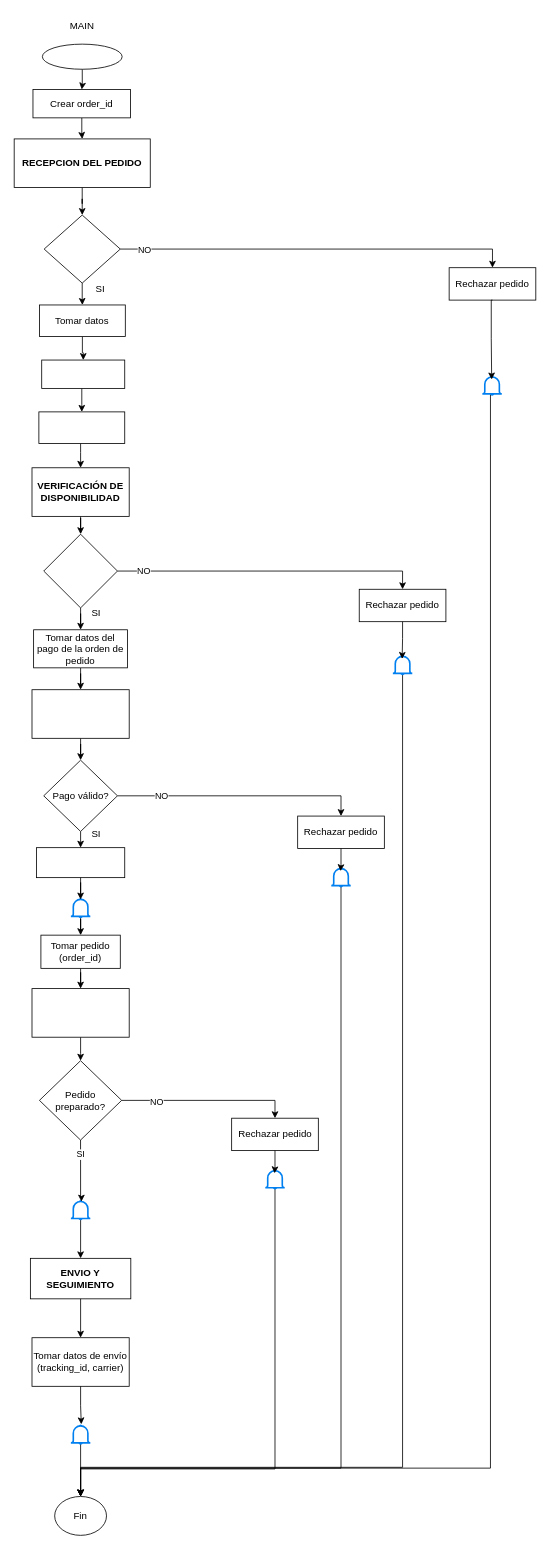
Image size: 550x1550. Some labels were removed from this diagram. Each missing label, with the centre of its shape:
Aceptar pedido: (80,862)
Crear orden de pedido: (83,373)
PREPARACIÓN DEL PEDIDO: (80,1012)
PROCESAMIENTO DEL PAGO: (80,713)
Stock disponible?: (80,570)
Tomar pedido: (82,56)
Tomar productos de la orden de pedido: (81,427)
¿Datos válidos?: (81,248)
